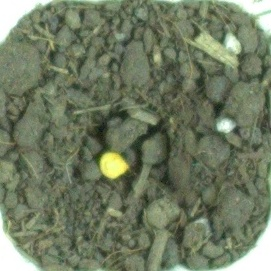chilli seed: (98, 150, 131, 180)
